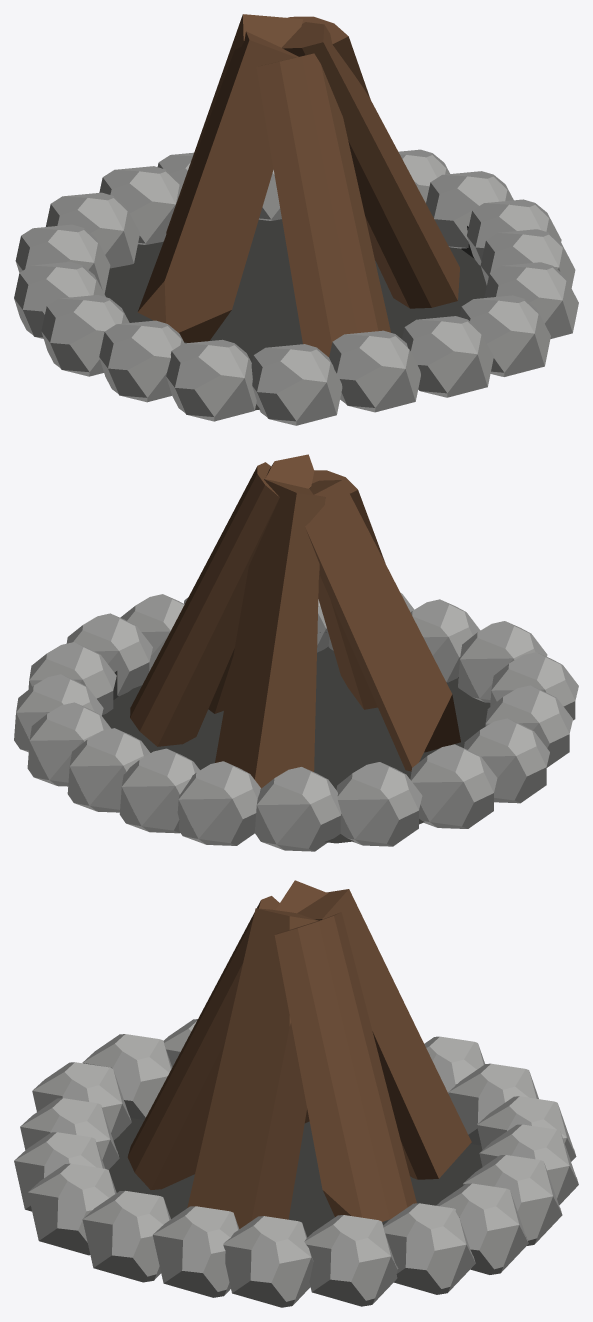
Rendered from Campfire.fbx.
The picture shows the model from 3 angles, top to bottom: view 1: azimuth 30°, elevation 25°; view 2: azimuth 150°, elevation 25°; view 3: azimuth 270°, elevation 25°; orthographic projection. The views are drawn at different scales.
Visible parts, largest first — view 1: Stone, Wood, Ash; view 2: Stone, Wood, Ash; view 3: Wood, Stone, Ash.
Boxes of the visible parts, x1,y1,x2,y2 form: Stone: (14, 149, 578, 425); Wood: (137, 14, 459, 356); Ash: (104, 219, 486, 410); Stone: (14, 592, 578, 851); Wood: (130, 454, 460, 788); Ash: (102, 632, 490, 843); Wood: (127, 880, 471, 1228); Stone: (14, 1019, 578, 1307); Ash: (109, 1118, 482, 1237).
Size of the model in its own units: 355 by 199 by 345.
